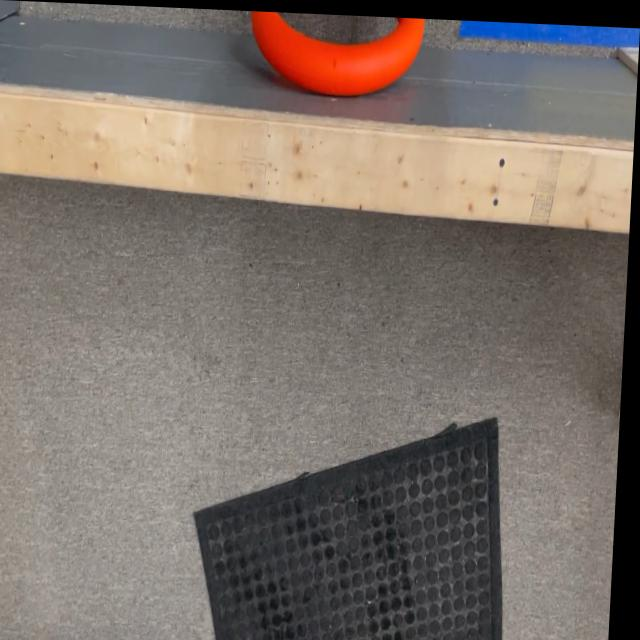note: (240, 8, 428, 91)
